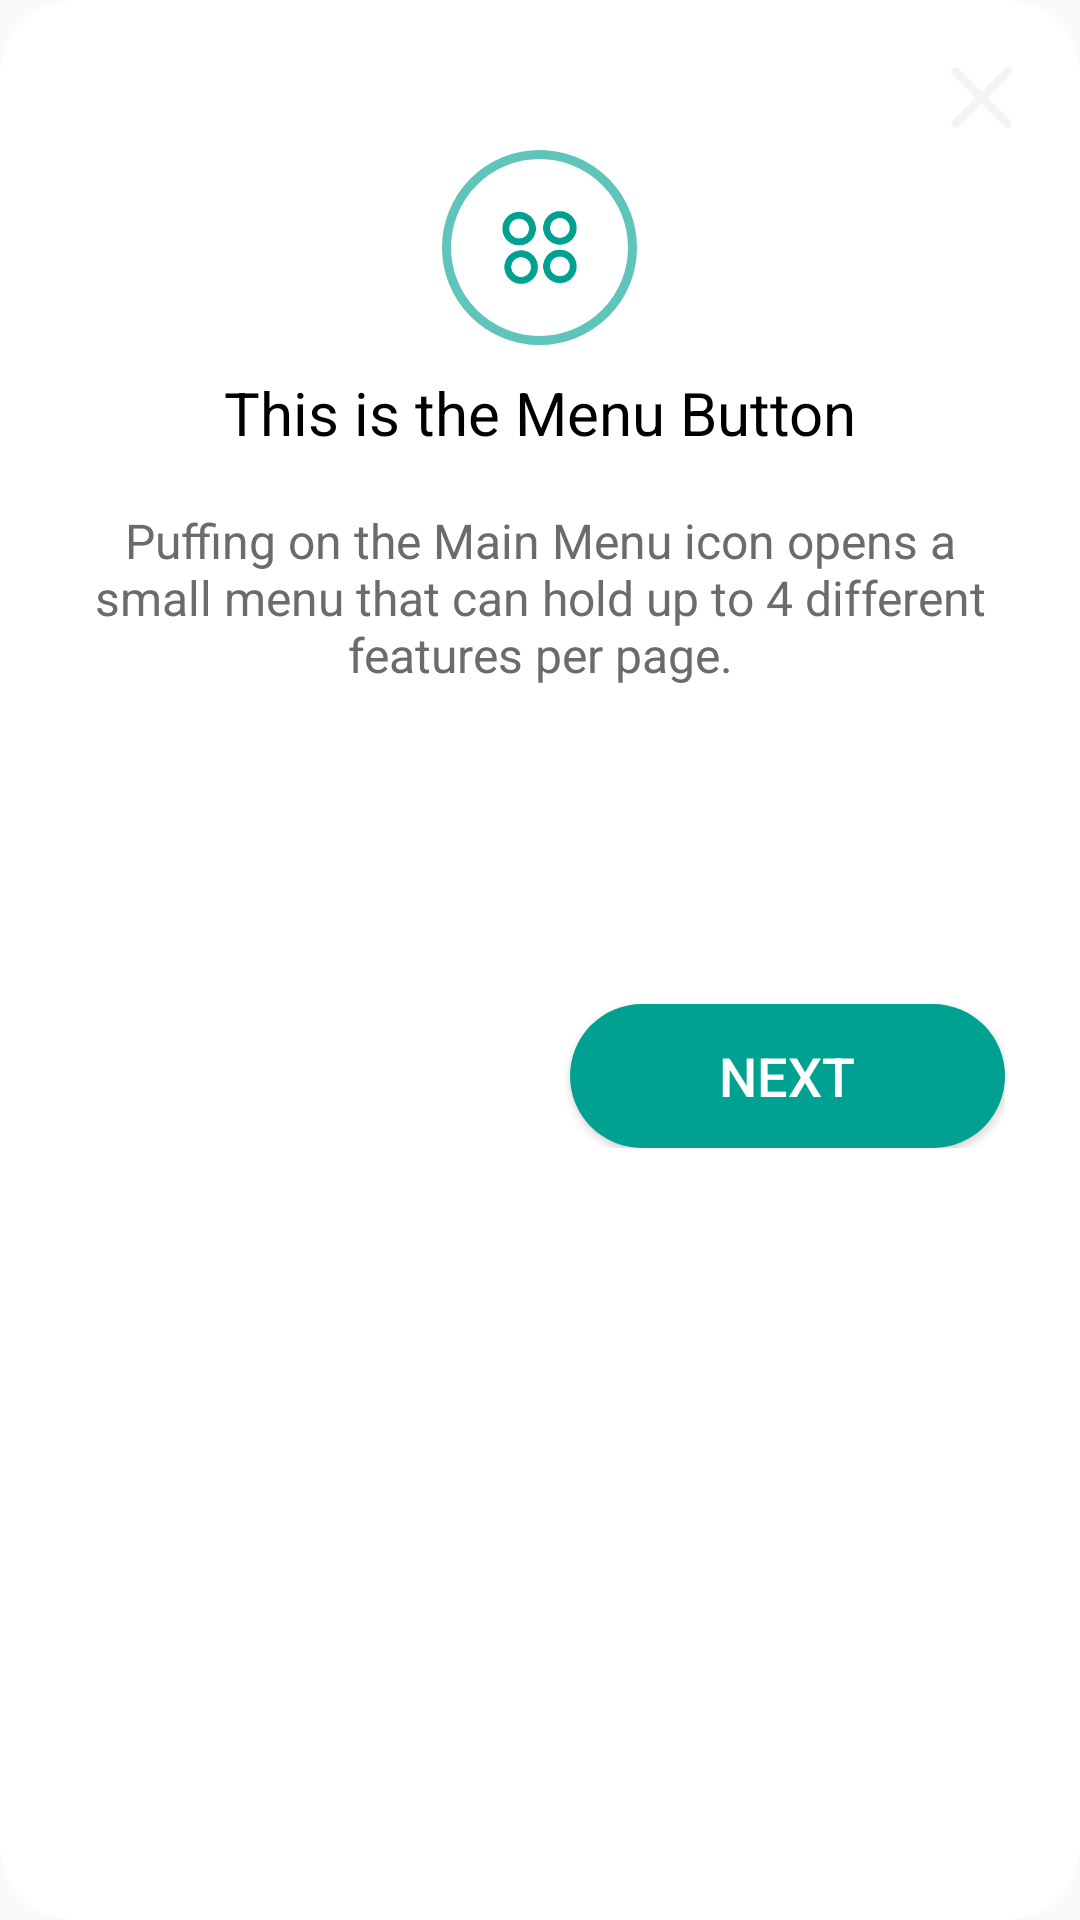

Point at icon controls on the screen. Image size 1080×1920, points as point (x, y).
quickmenu: point (539, 247)
